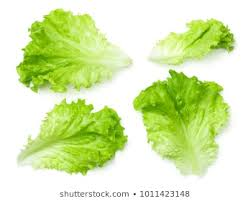lettuce: (23, 18, 128, 94)
